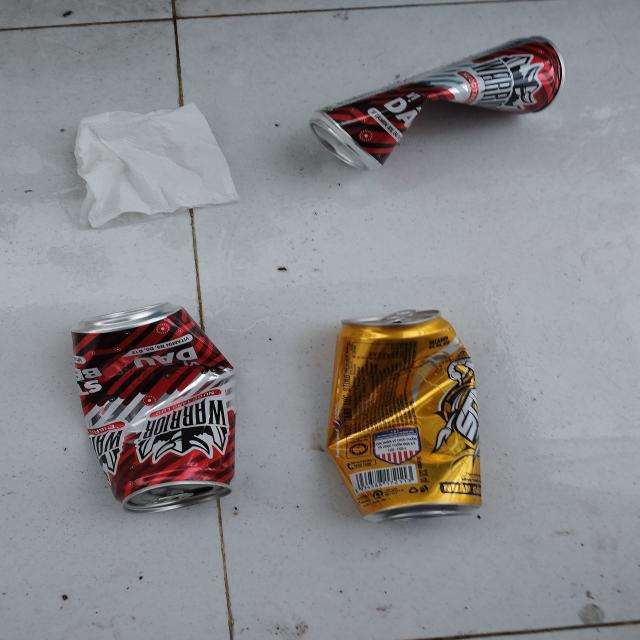can: (71, 300, 238, 514), (307, 34, 564, 172), (328, 309, 482, 526)
napkin: (72, 102, 246, 228)
